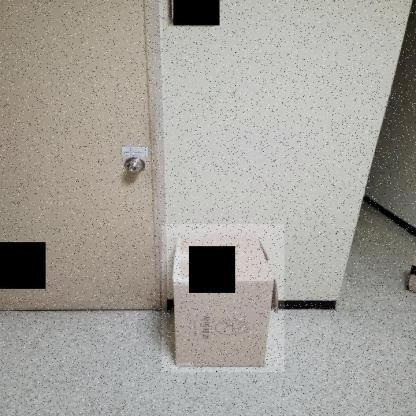-: (162, 224, 284, 372)
